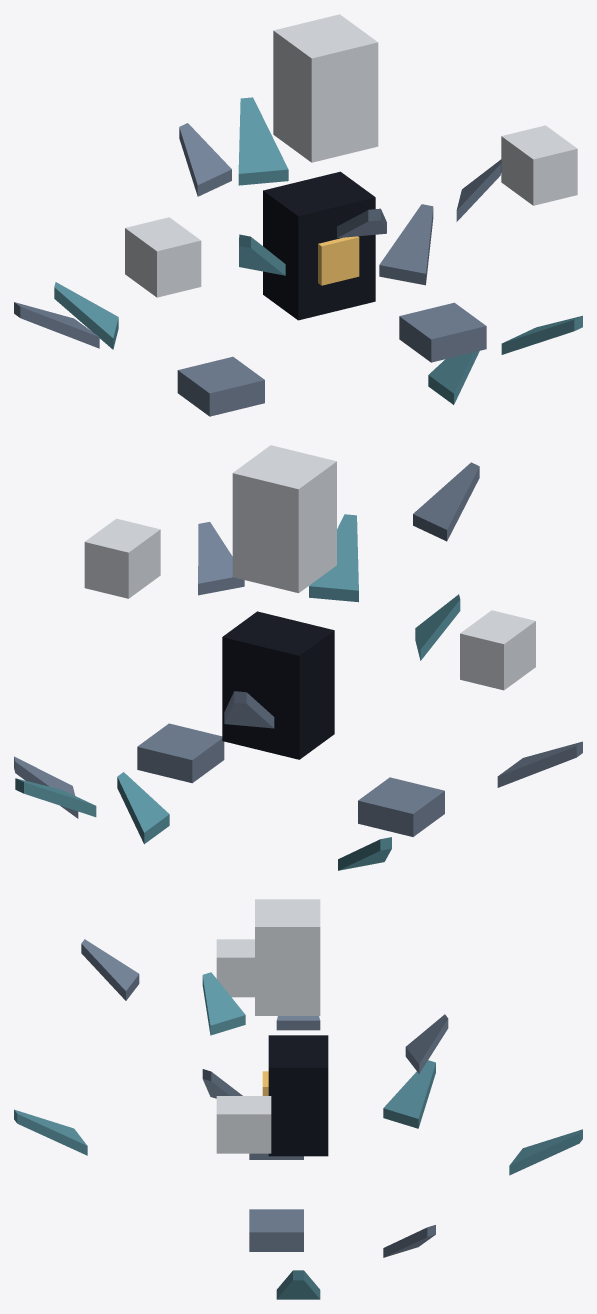
Rendered from UnboundP3.glb.
The picture shows the model from 3 angles, top to bottom: view 1: azimuth 30°, elevation 25°; view 2: azimuth 150°, elevation 25°; view 3: azimuth 270°, elevation 25°; orthographic projection. The views are drawn at different scales.
Parts seen in each view (by area): view 1: UnboundP3; view 2: UnboundP3; view 3: UnboundP3.
Boxes of the visible parts, <box> form: UnboundP3: <box>14,14,582,416</box>; UnboundP3: <box>14,445,582,870</box>; UnboundP3: <box>14,899,582,1299</box>.
Bounding box in the file's own units: 4.63 × 3.4 × 5.22.
1 material, 1 textured.
